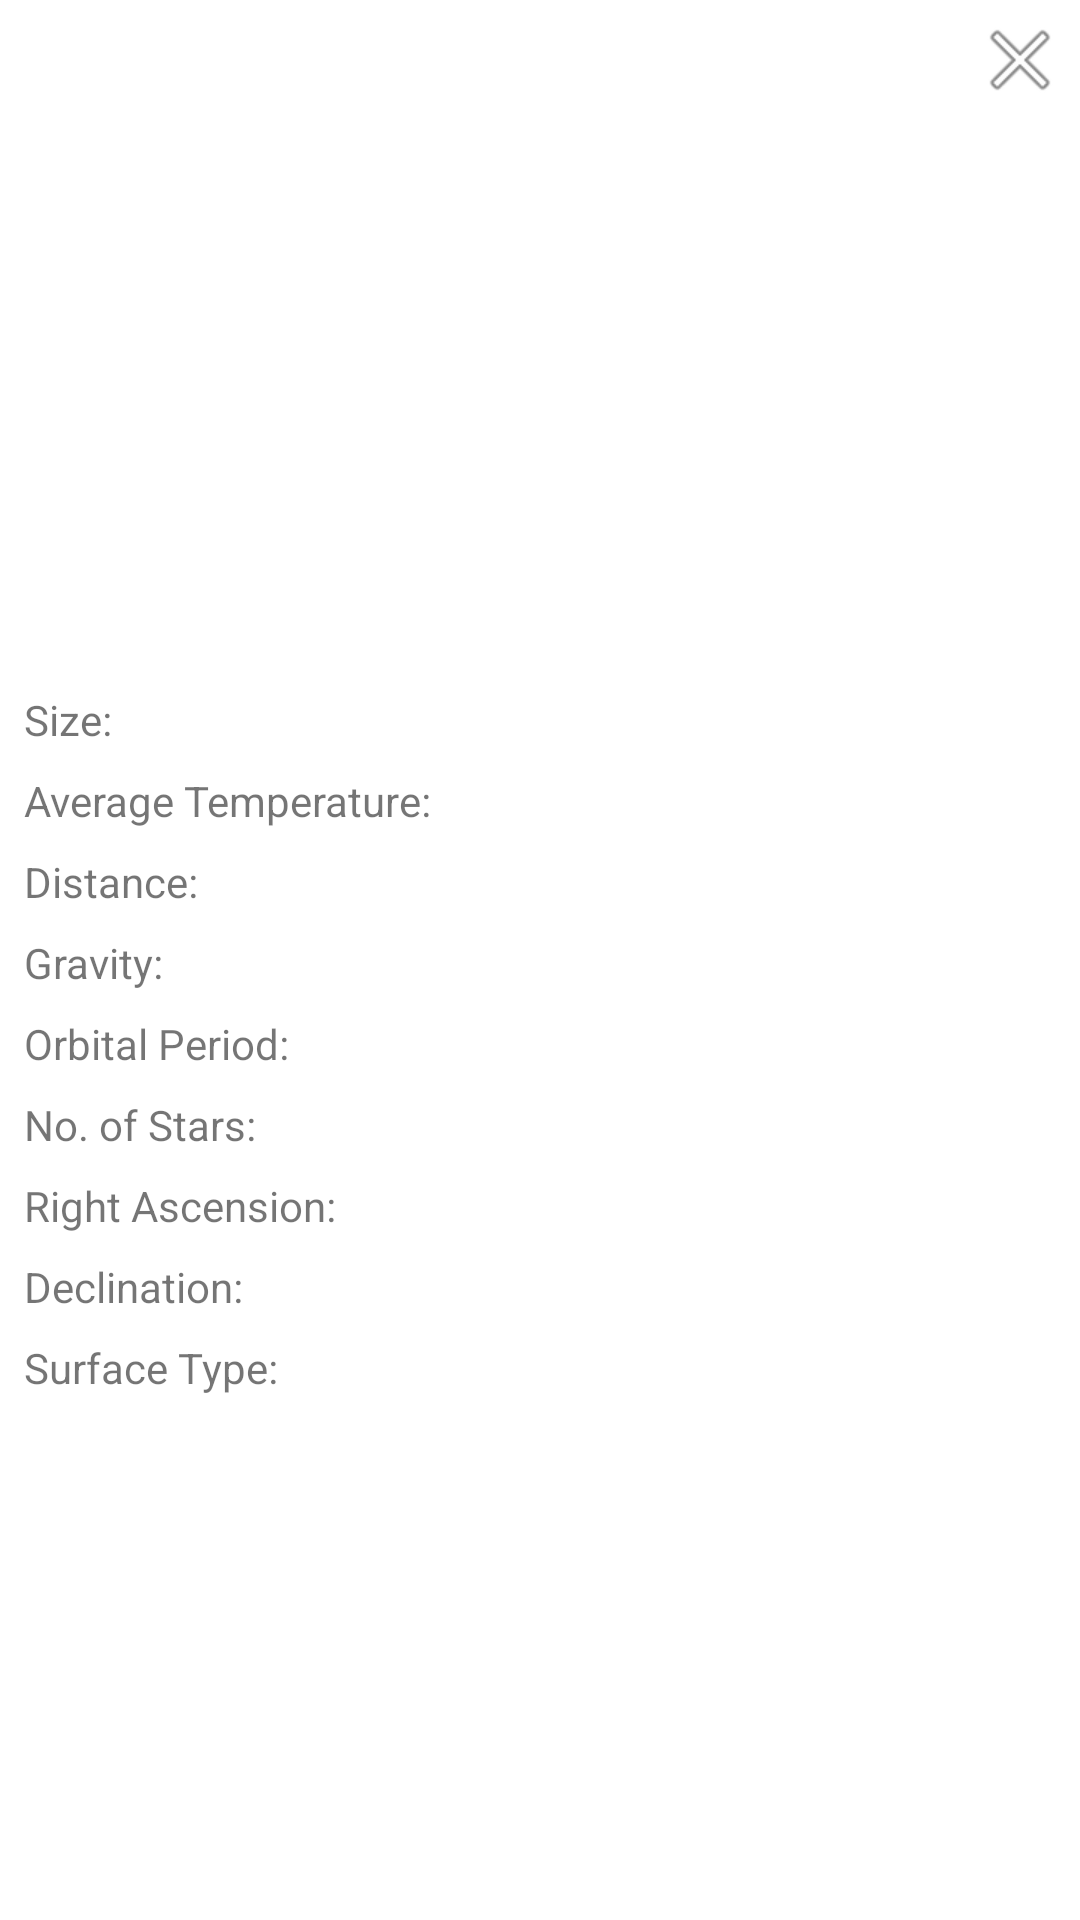

Icons on this 1080px×1920px Android screen, each with its box as {"left": x1, "top": y1, "right": x2, "bottom": y2}:
Closes the dialog window: {"left": 990, "top": 30, "right": 1050, "bottom": 90}
